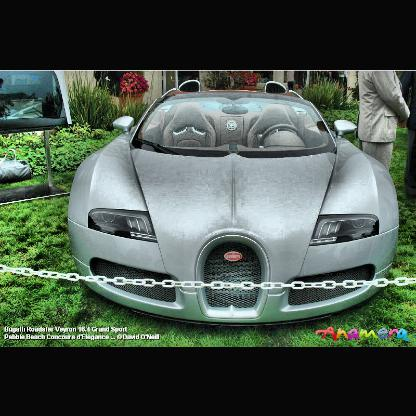Bugatti Veyron 16-4 Convertible 2009: (70, 80, 403, 332)
